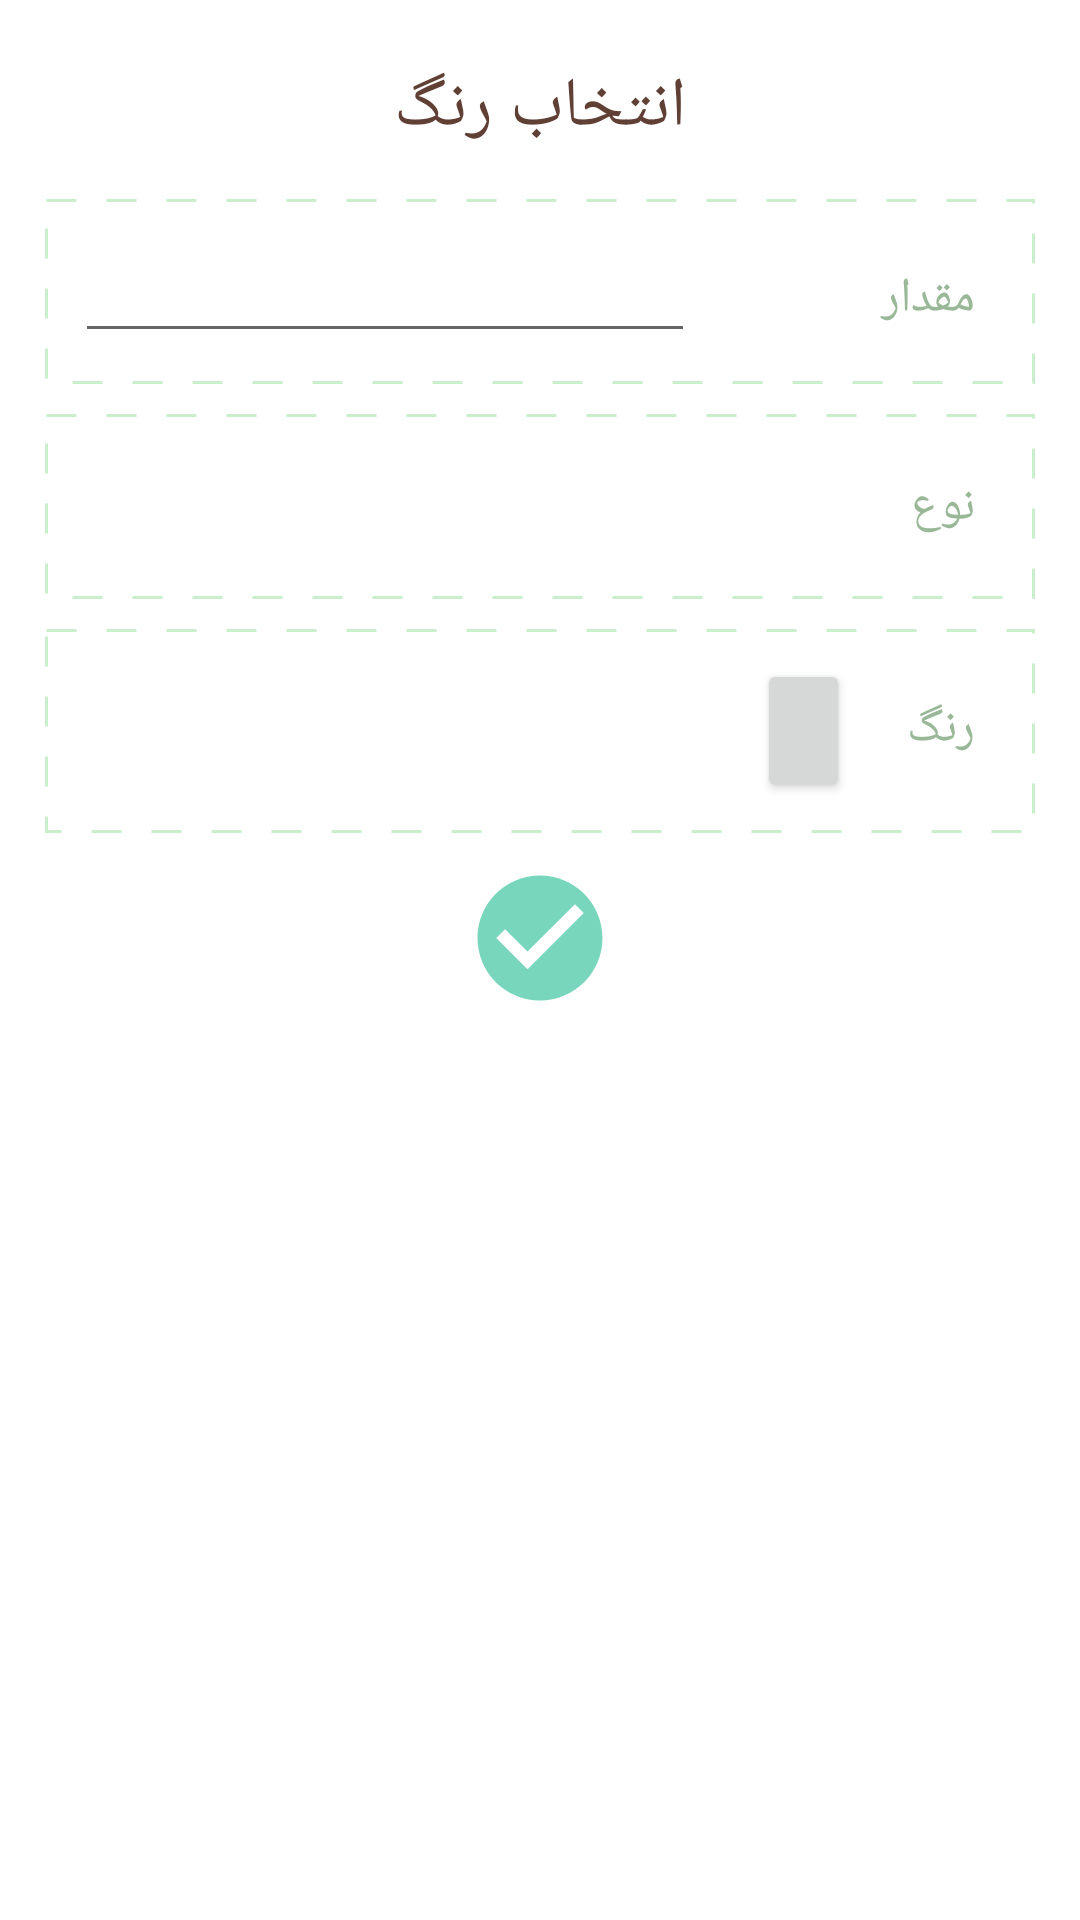

Locate icon controls on the screen. Image size 1080 x 1920, boxes as (x1,y1,x2,y2).
saveitems: (477,875,603,1001)
